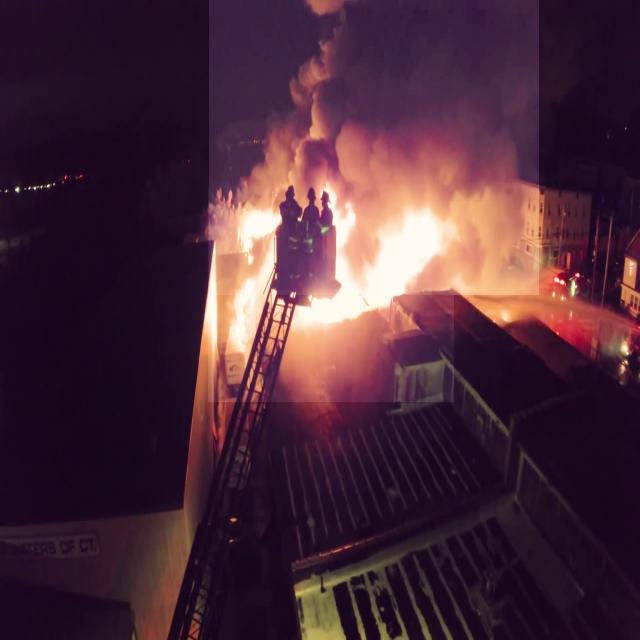Fire: (208, 187, 454, 402)
Smoke: (209, 0, 539, 295)
